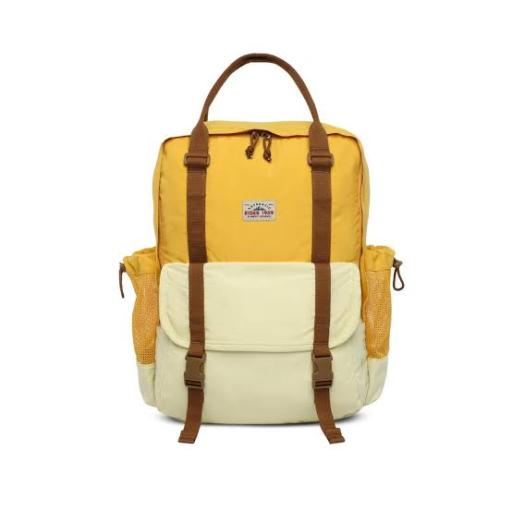tas ransel: (118, 50, 405, 447)
